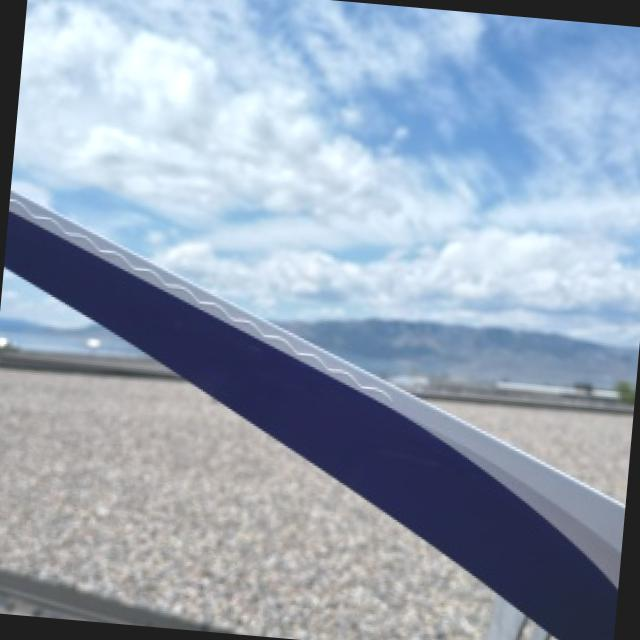healthy: (4, 190, 619, 640)
